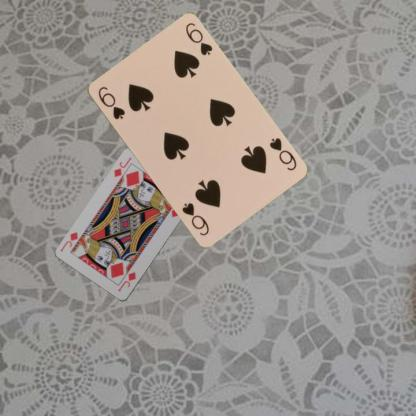6s: (94, 84, 126, 121), (266, 135, 298, 172)
Jd: (115, 269, 137, 293), (111, 155, 133, 178)
